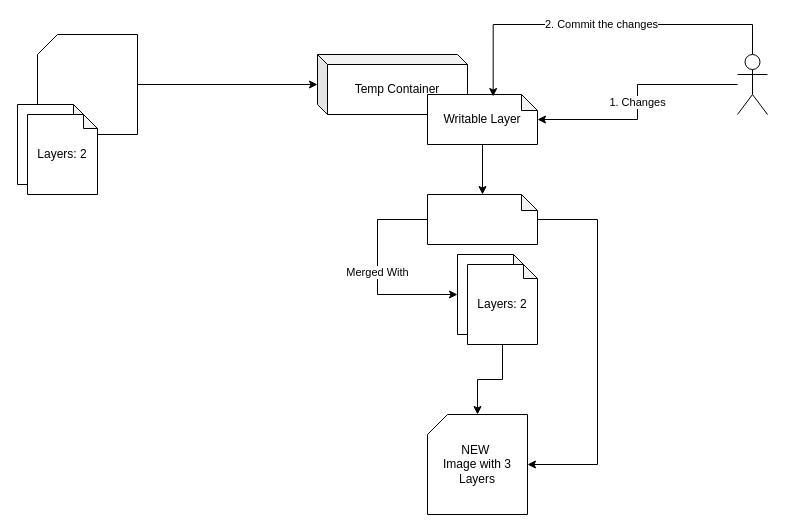
Some shapes in this 785 by 532 pixel diagram are drawn without their labels. Each missing label, with the box of its shape:
<BASE> Image: (36, 34, 138, 134)
Actor: (736, 54, 768, 114)
Readonly Layer: (426, 194, 538, 244)
